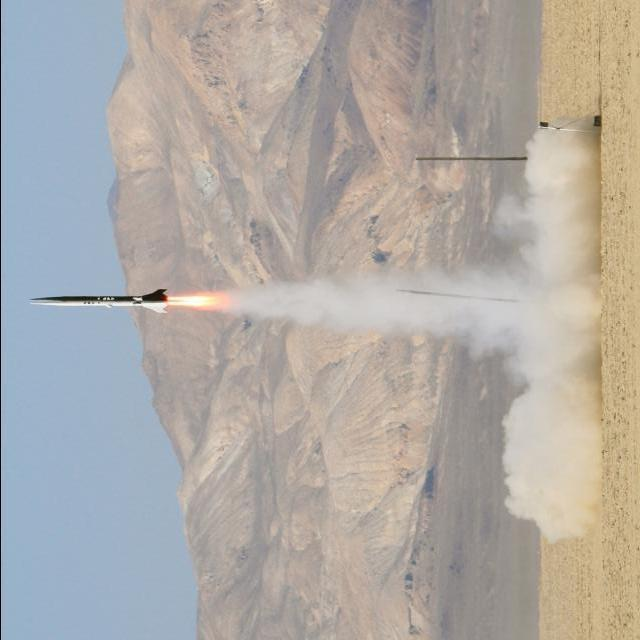missile: (34, 288, 171, 312)
